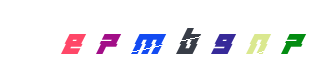7: (69, 0, 149, 80), (253, 0, 333, 80)
9: (165, 0, 245, 80)
B: (126, 0, 206, 80)
E: (33, 0, 113, 80)
M: (108, 0, 188, 80)
N: (211, 0, 291, 80)
